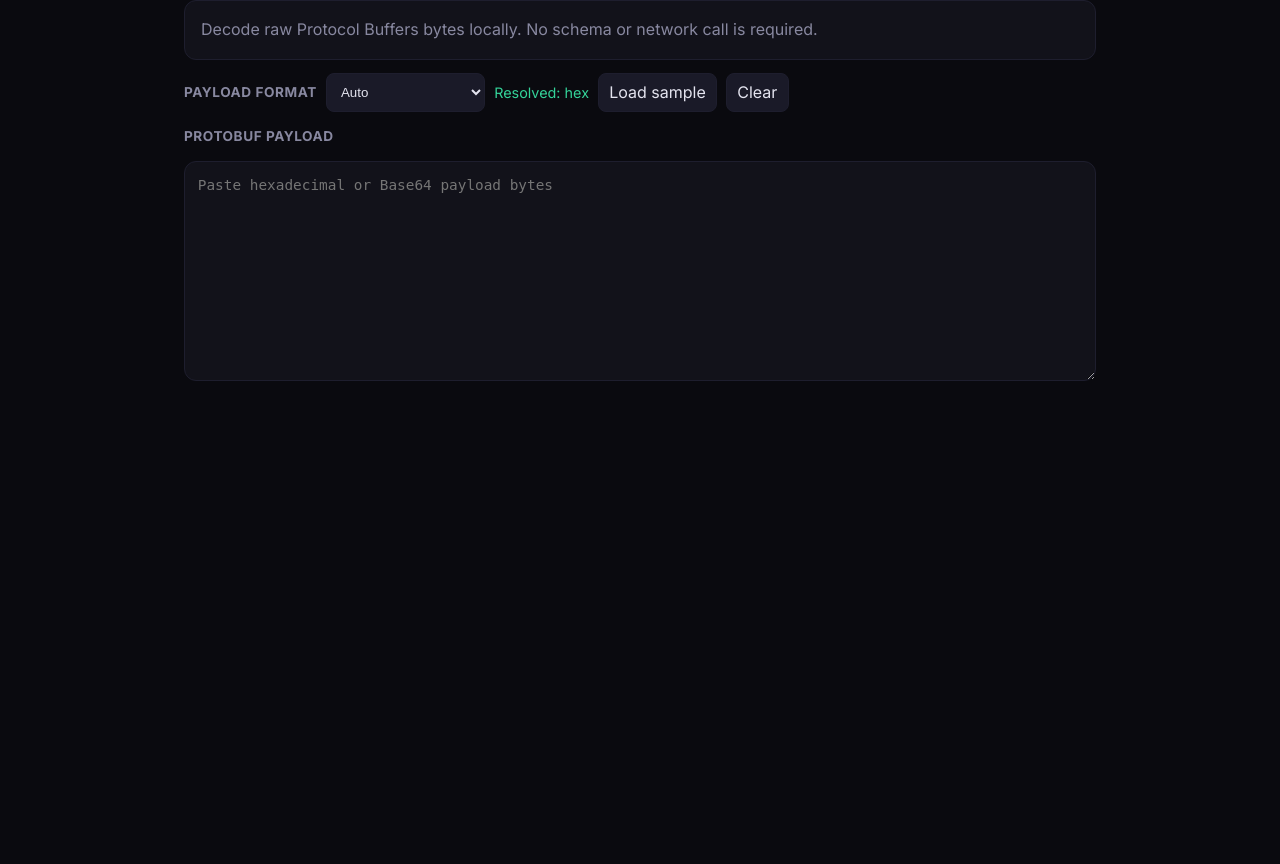
ProtobufDecoderTool › shows copy success and failure feedback
Type "089601120774657374696e671a0308960120ffffffffffffffffff012d0000803f31000000000000f83f" into the text box labelled "Protobuf payload" at coordinates (640, 271), box [184, 161, 1096, 381]
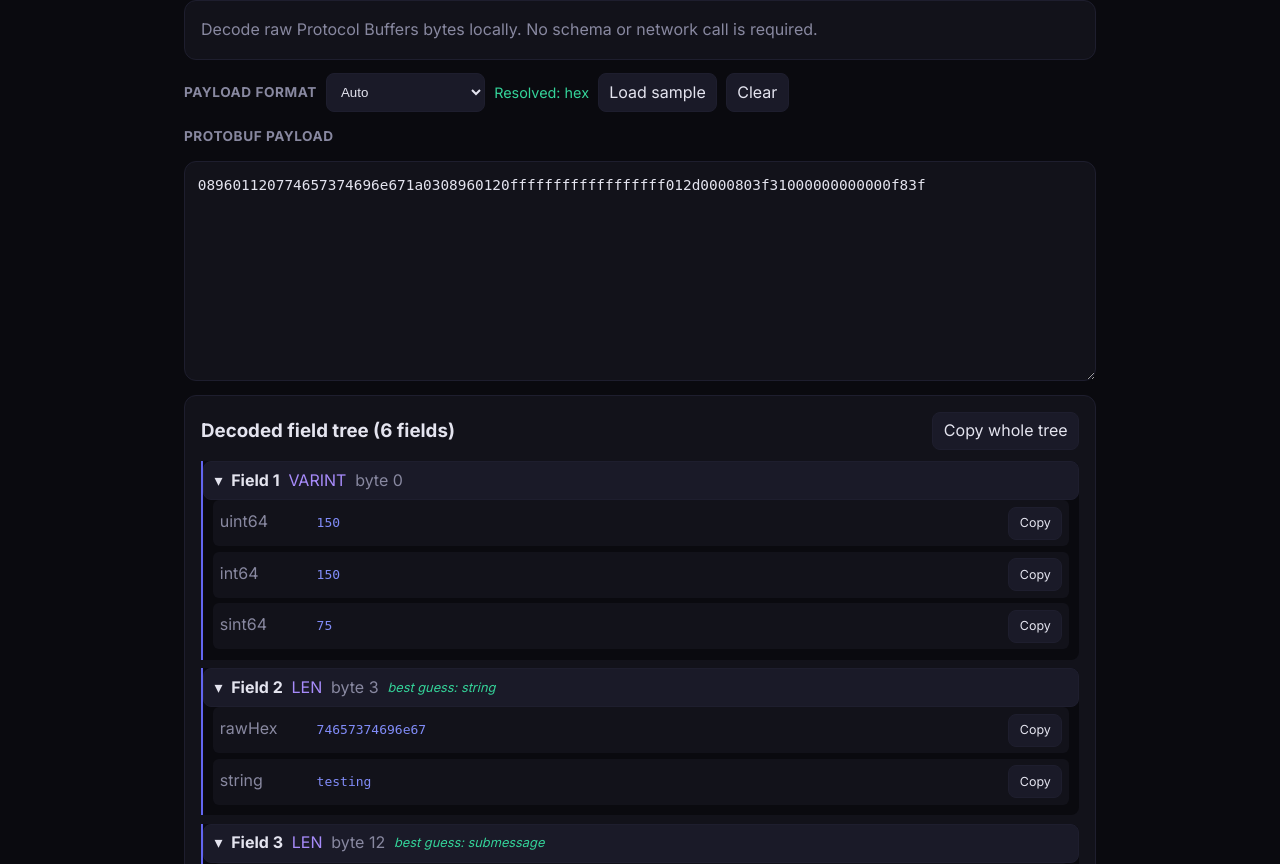
Now the heading "Decoded field tree (6 fields)" is shown, box [201, 416, 455, 446]
Click the button "Copy whole tree" at coordinates (1006, 431), box [932, 412, 1079, 450]
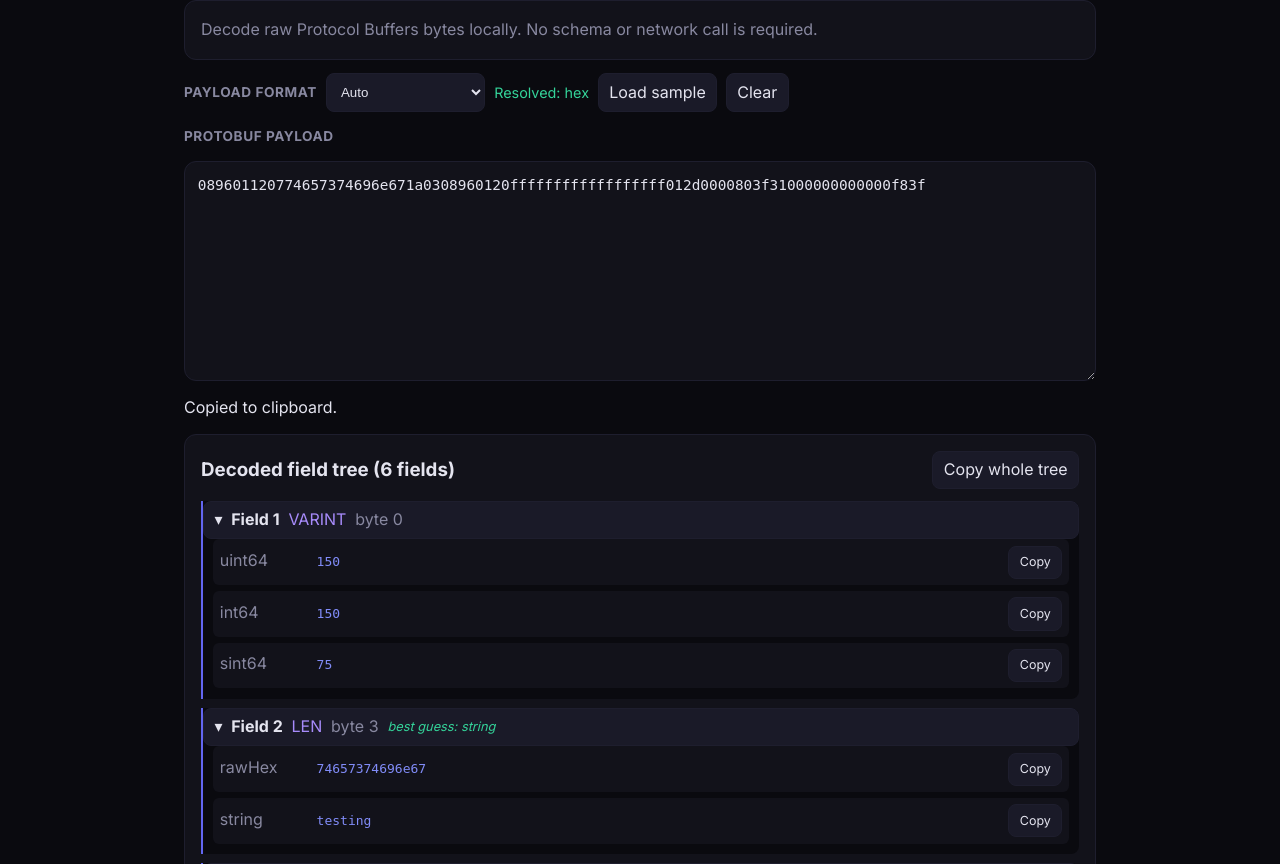
Now the message reads "Copied to clipboard.", box [184, 396, 337, 416]
Click the button with aria-label "Copy uint64" at coordinates (1035, 562), box [1008, 546, 1062, 579]
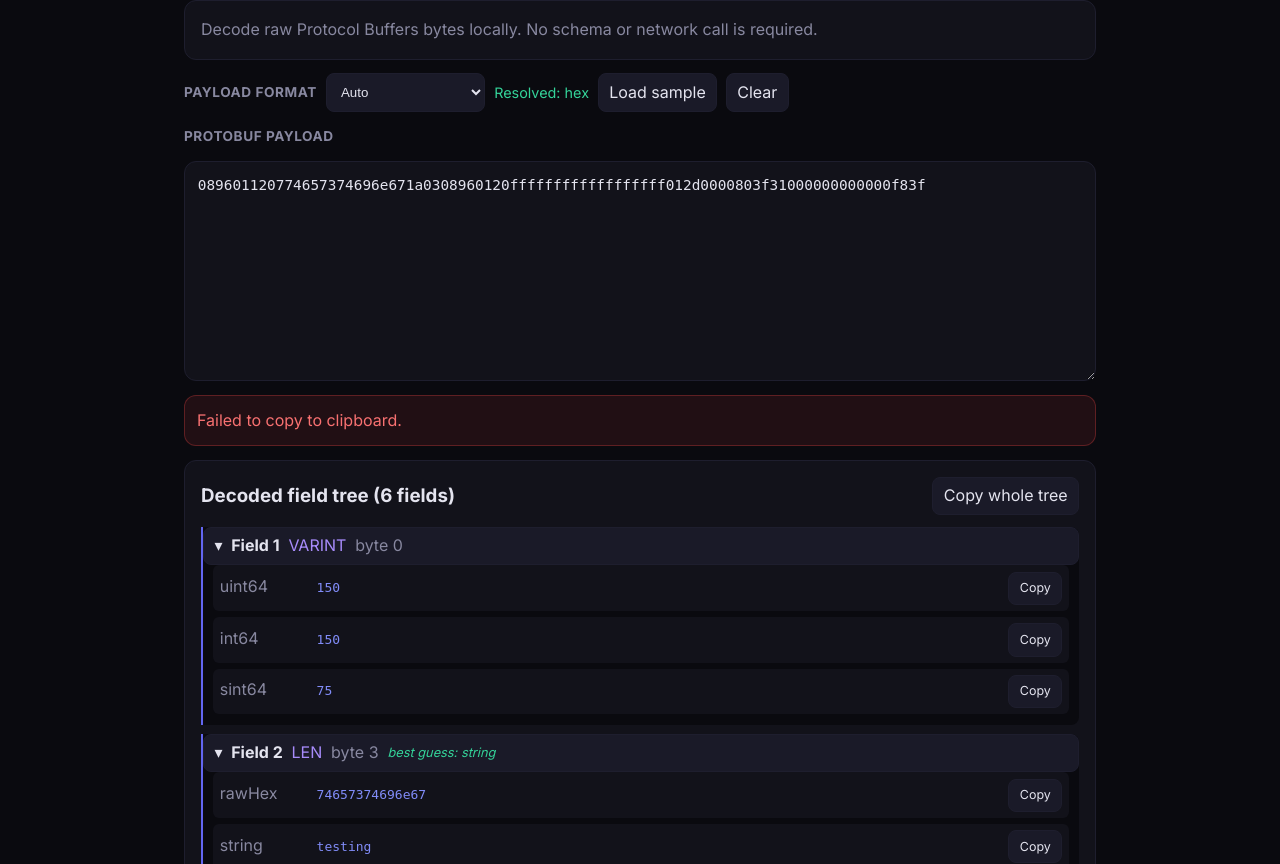
Now the message reads "Failed to copy to clipboard.", box [197, 410, 402, 430]
